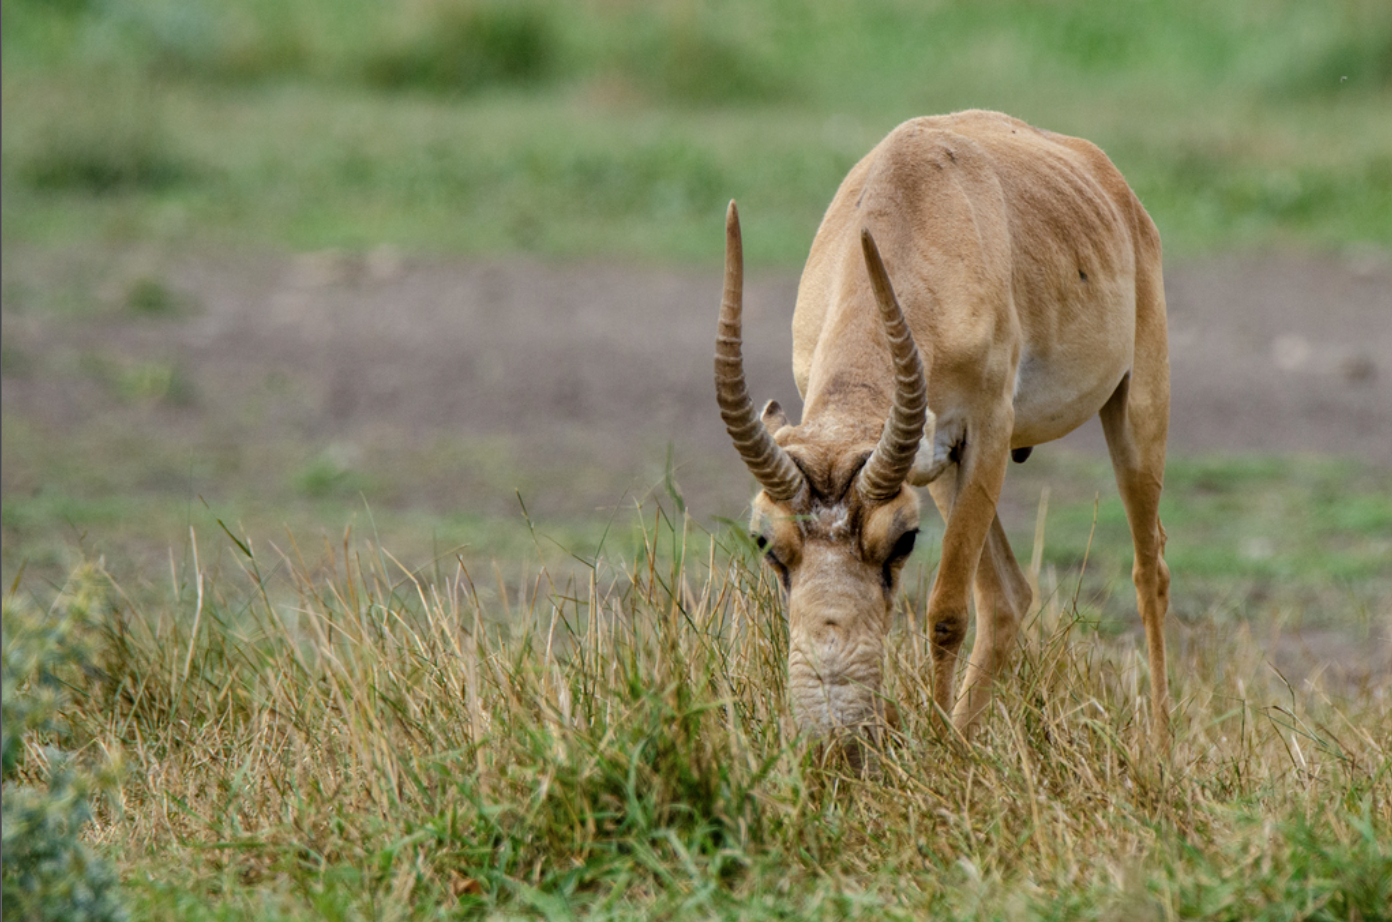saiga: (679, 104, 1195, 813)
